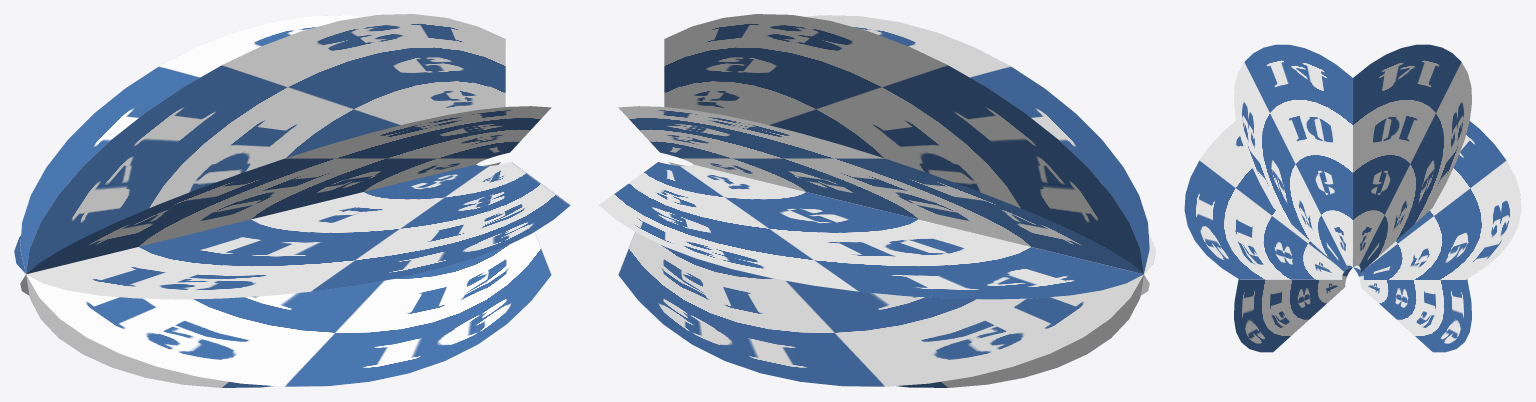
File: RuiDad_Wind2.fbx
3 renders of one model, left to right at view 1: azimuth 30°, elevation 25°; view 2: azimuth 150°, elevation 25°; view 3: azimuth 270°, elevation 25°, orthographic. The views are drawn at different scales.
Parts seen in each view (by area): view 1: SM_e_Plc_P1009_Wind004; view 2: SM_e_Plc_P1009_Wind004; view 3: SM_e_Plc_P1009_Wind004.
Boxes of the visible parts, left/top/right/bottom form: SM_e_Plc_P1009_Wind004: left=14, top=14, right=570, bottom=387; SM_e_Plc_P1009_Wind004: left=599, top=14, right=1155, bottom=387; SM_e_Plc_P1009_Wind004: left=1184, top=44, right=1521, bottom=352.
Bounding box in the file's own units: 163 × 115 × 115.
1 material, 1 textured.
